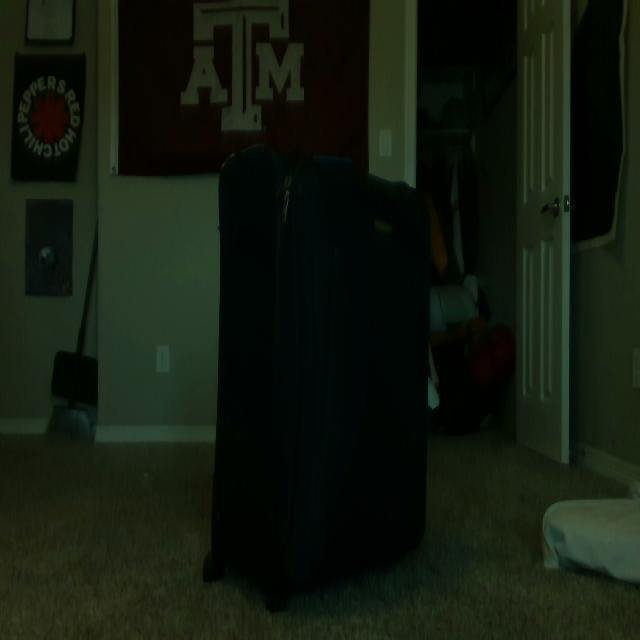suitcase: (202, 141, 433, 608)
